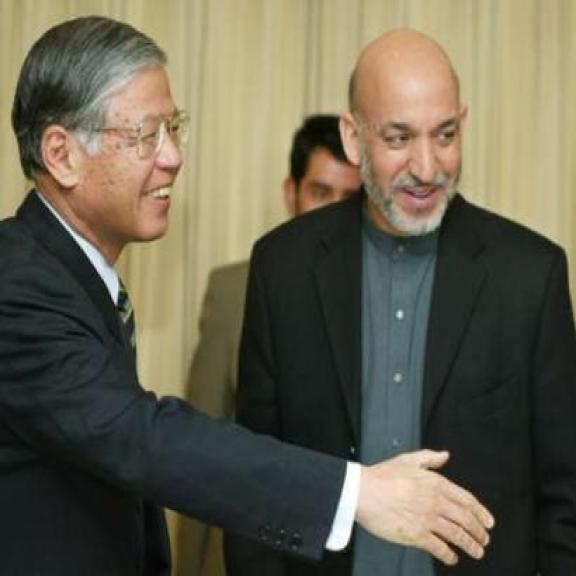face: (44, 71, 190, 251), (337, 81, 476, 232), (279, 139, 359, 222)
